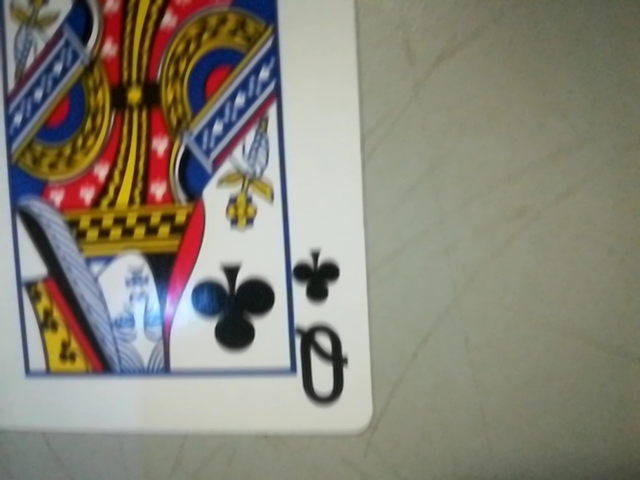mh q: (280, 238, 366, 422)
